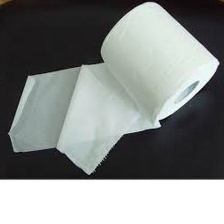tissue: (1, 0, 224, 178)
